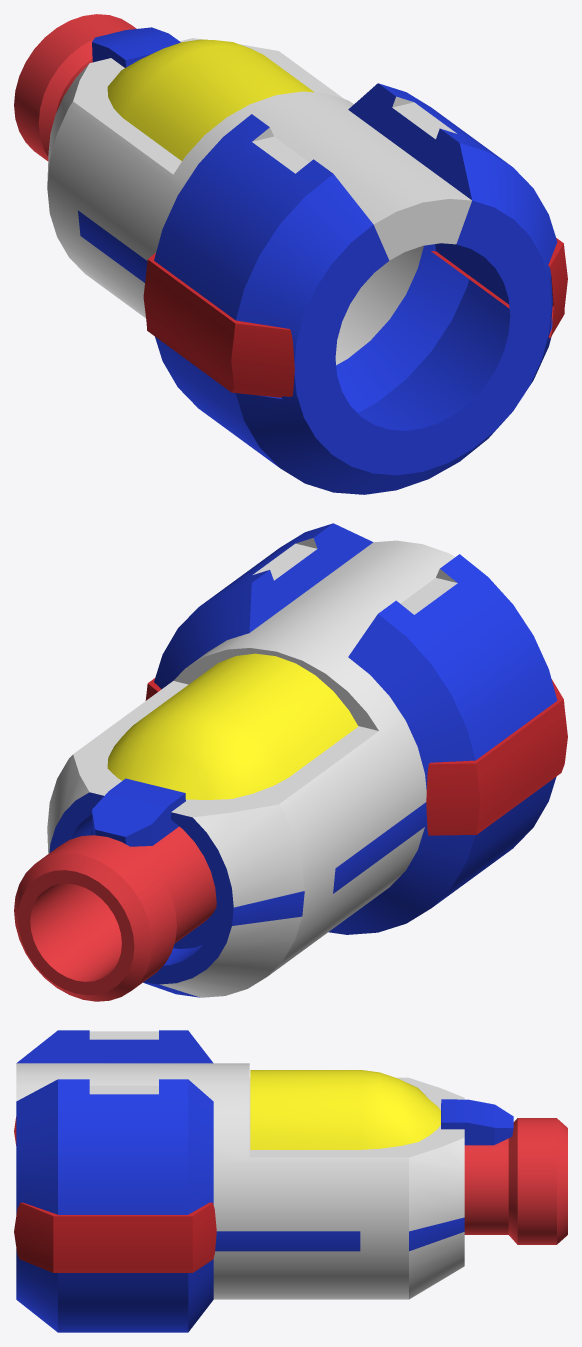
Rendered from Gun.fbx.
3 renders of one model, top to bottom at view 1: azimuth 30°, elevation 25°; view 2: azimuth 150°, elevation 25°; view 3: azimuth 270°, elevation 25°, orthographic. The views are drawn at different scales.
Visible parts, largest first — view 1: Cylinder, Cylinder.003; view 2: Cylinder, Cylinder.003; view 3: Cylinder, Cylinder.003.
Boxes of the visible parts, x1,y1,x2,y2 form: Cylinder: (47,27,567,494); Cylinder.003: (14,14,136,161); Cylinder: (47,523,567,997); Cylinder.003: (14,826,216,1001); Cylinder: (14,1030,513,1332); Cylinder.003: (464,1118,567,1244).
Bounding box in the file's own units: 156 × 147 × 280.
